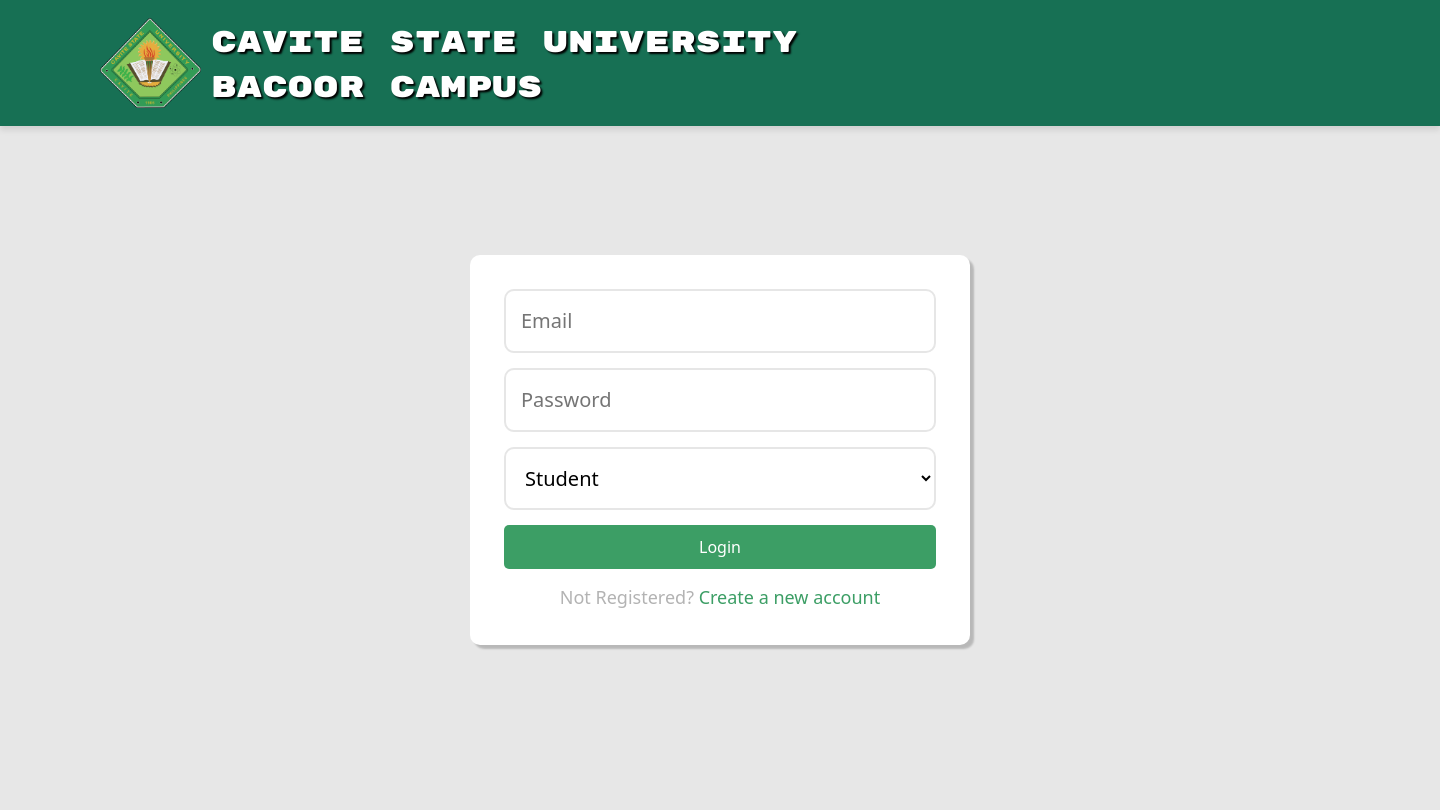
Login Component - Registrar Role › displays error for Registrar role with invalid credentials
Note: Simulate user input
Type "registrar@example.com" into the field with placeholder "Email".
click(720, 321); type("registrar@example.com")  # box x1=504 y1=289 x2=936 y2=353
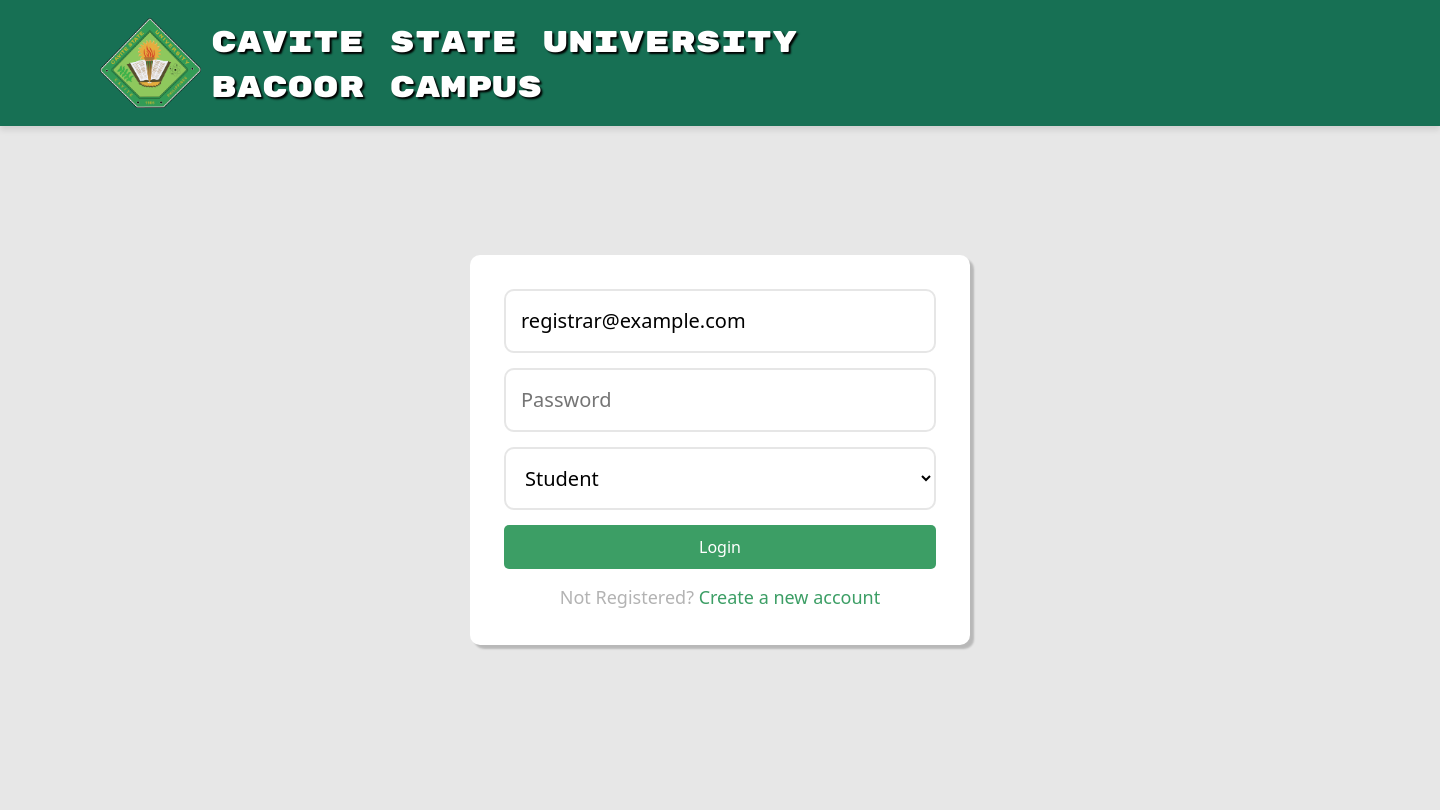
Type "wrongpassword" into the password field with placeholder "Password".
click(720, 400); type("wrongpassword")  # box x1=504 y1=368 x2=936 y2=432
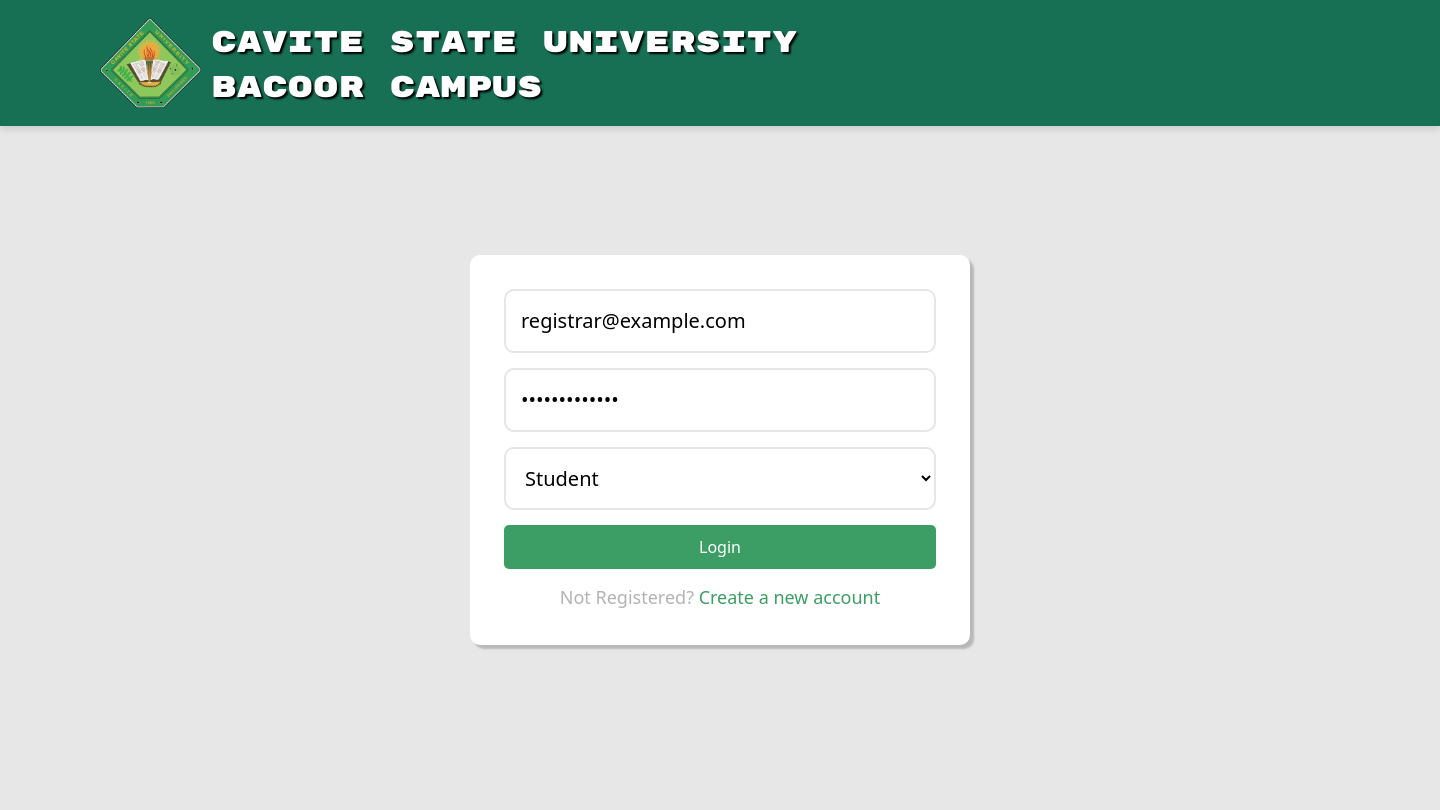
Select "Registrar" in the dropdown at (720, 478), box x1=504 y1=447 x2=936 y2=510
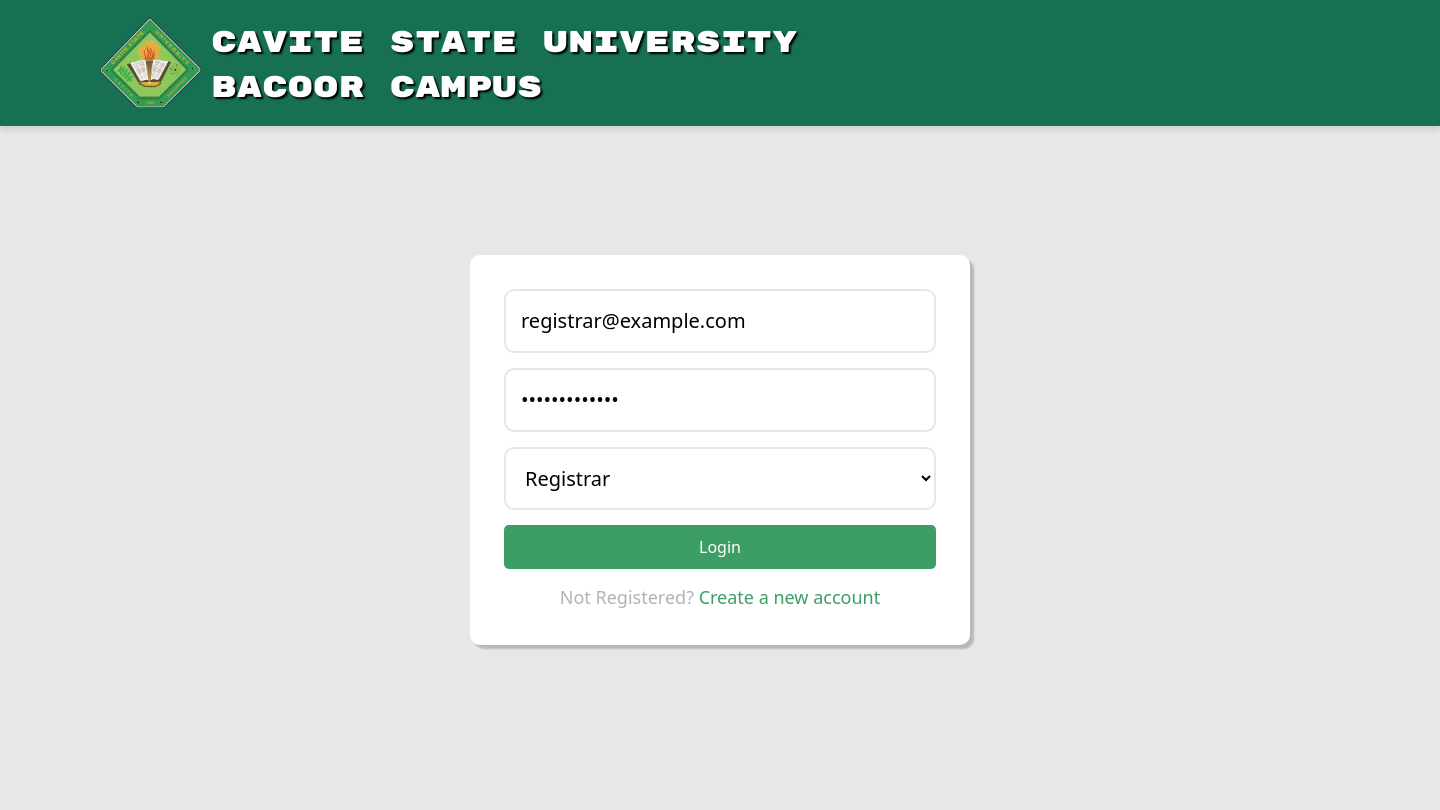
Note: Simulate form submission
Click the button "Login".
click(720, 547)  # box x1=504 y1=525 x2=936 y2=569
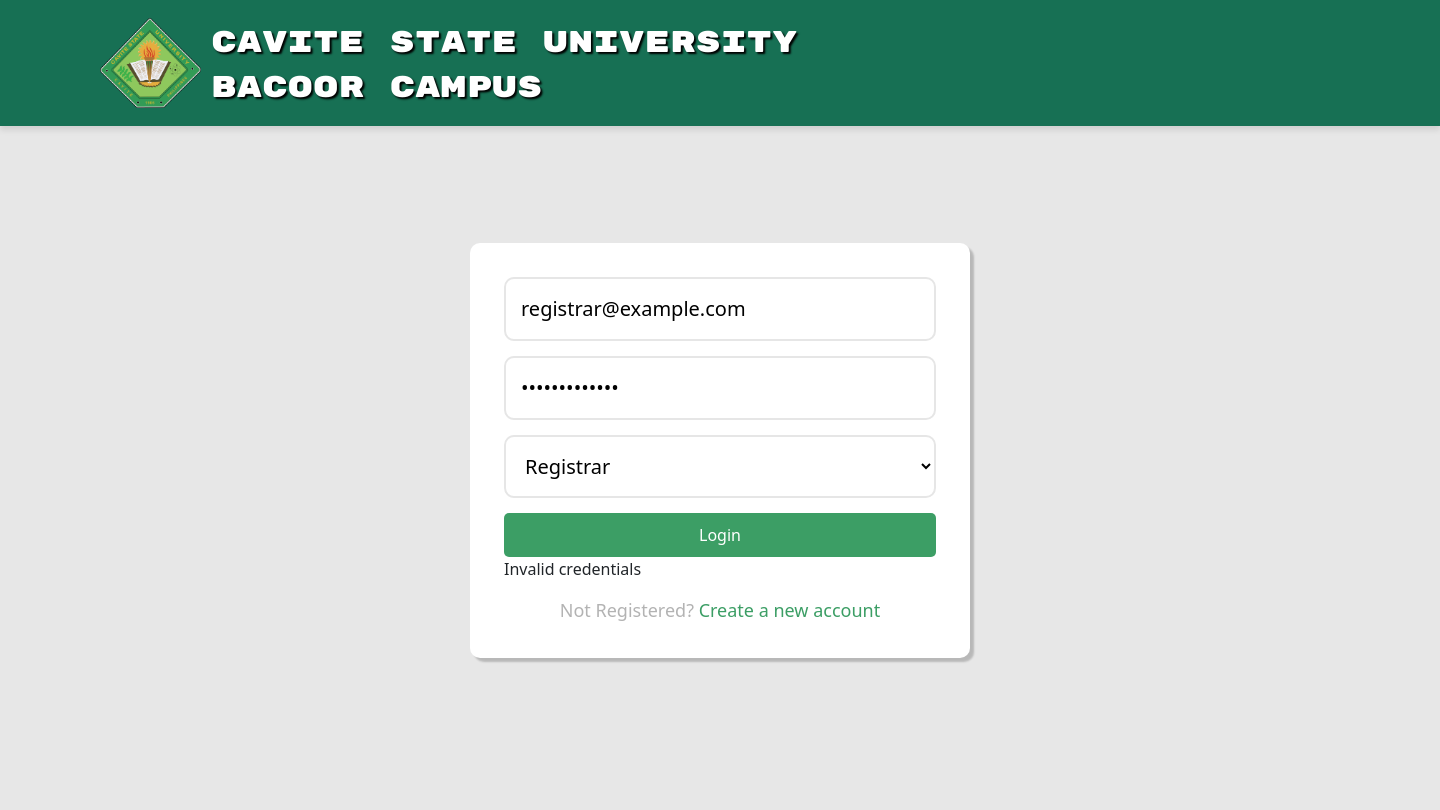
Expected: the text "Invalid credentials" is shown, x1=504 y1=558 x2=641 y2=580
